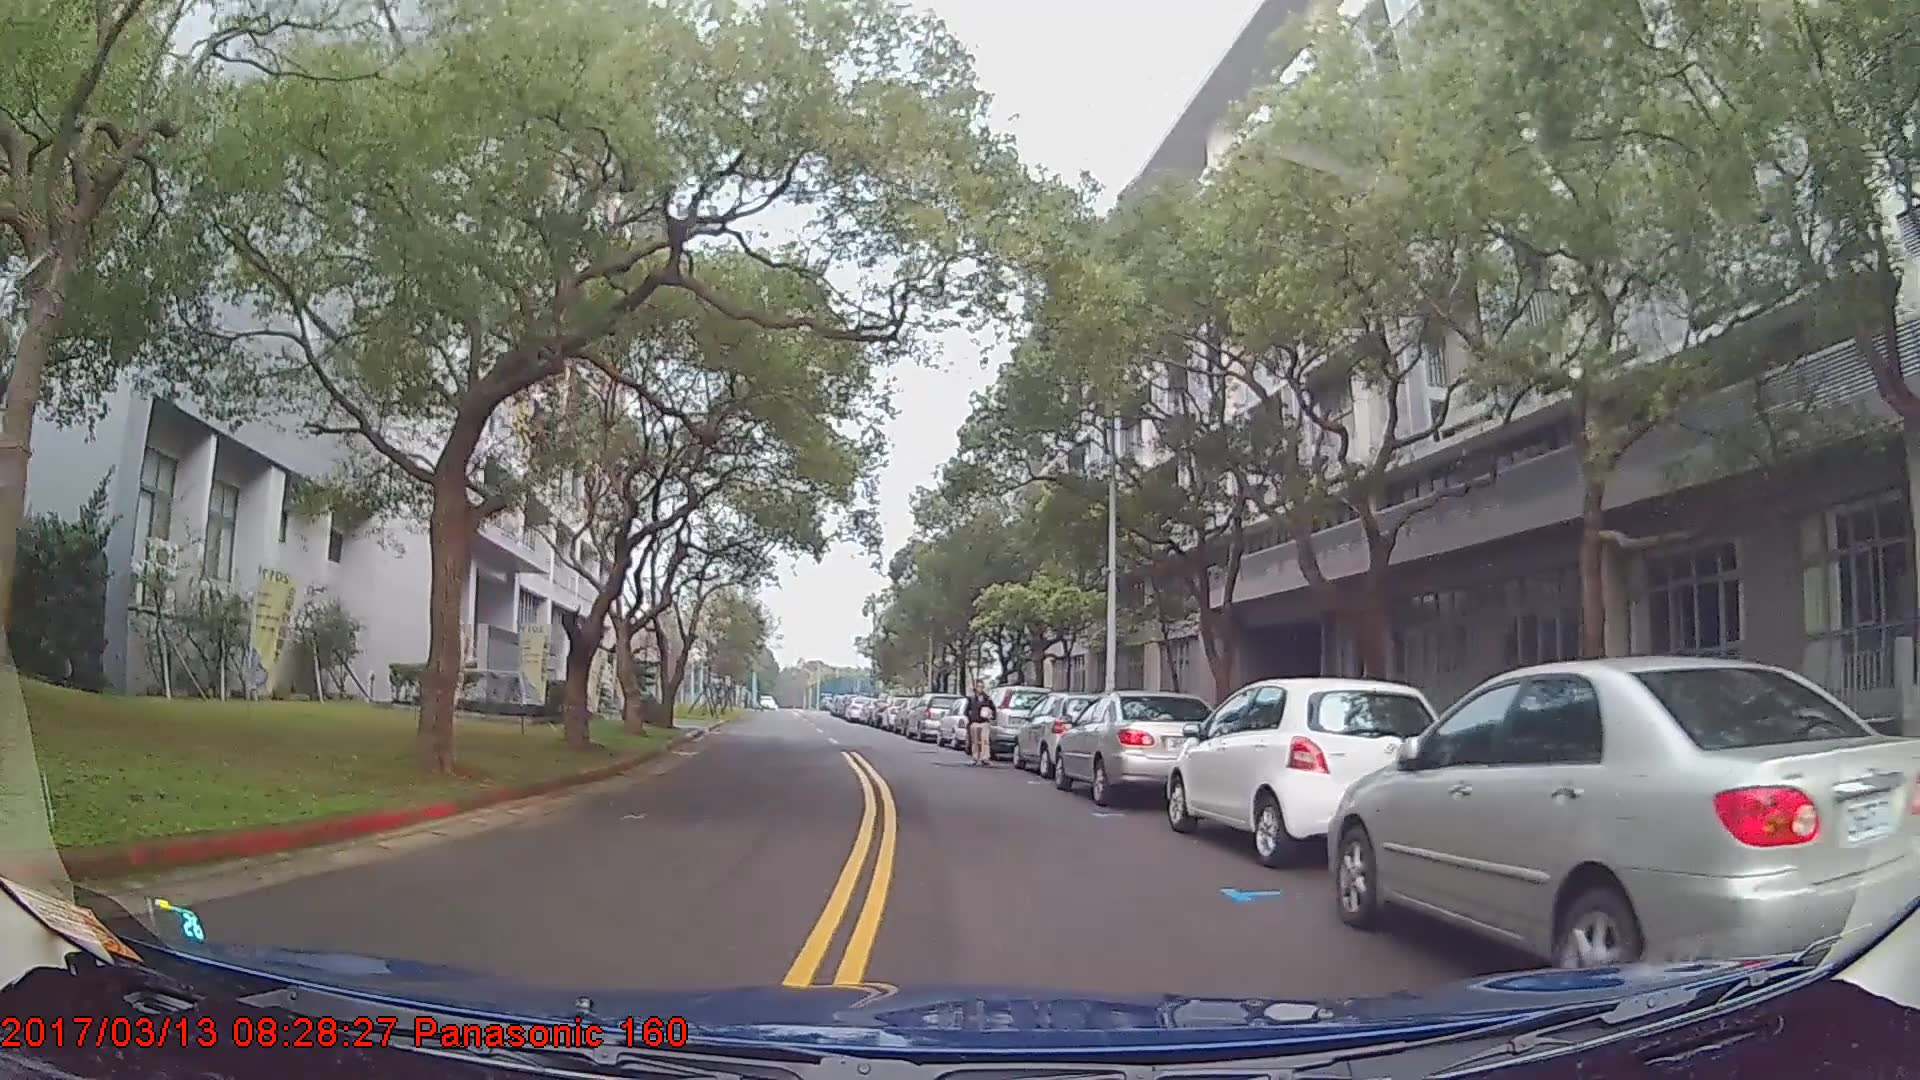pedestrian: (965, 676, 999, 762)
vehicle: (1322, 655, 1920, 1021), (1167, 671, 1449, 866), (1053, 689, 1226, 802), (1012, 687, 1128, 776), (975, 683, 1053, 757), (903, 691, 961, 741)
